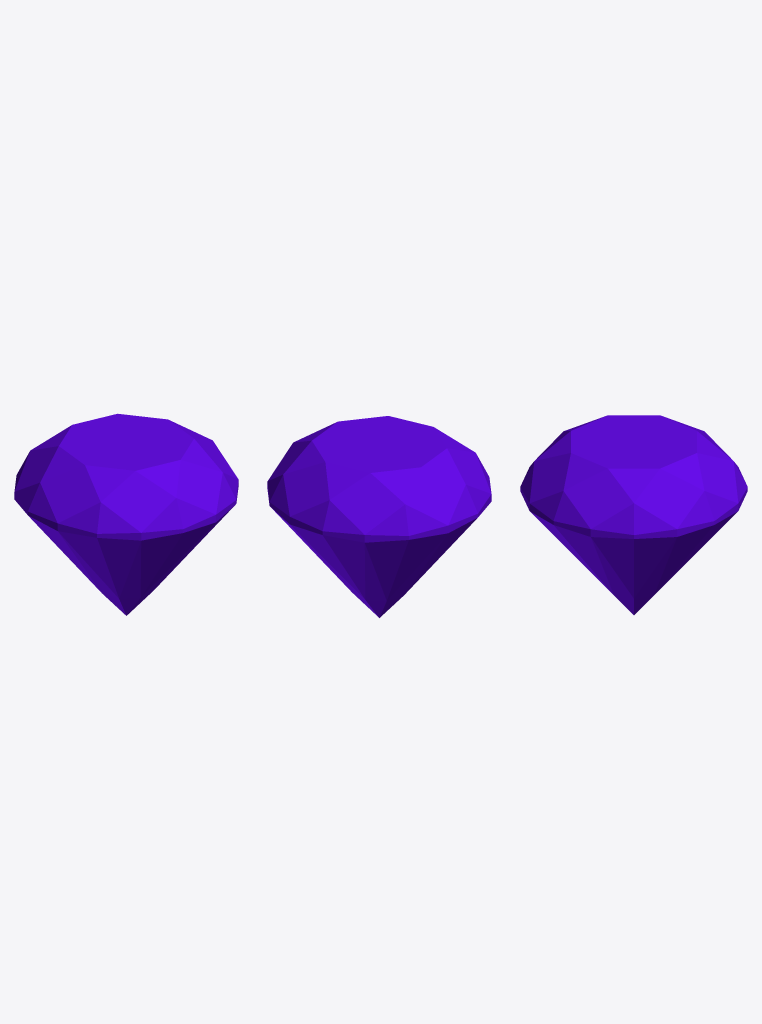
Rendered from BlueDiamondWithRigid1.gltf.
3 views of the same model, side by side, from view 1: azimuth 30°, elevation 25°; view 2: azimuth 150°, elevation 25°; view 3: azimuth 270°, elevation 25° (orthographic).
Parts seen in each view (by area): view 1: Diamond2; view 2: Diamond2; view 3: Diamond2.
Part boxes in pixels (bbox=[...]): Diamond2: bbox=[14, 413, 238, 615]; Diamond2: bbox=[267, 416, 491, 617]; Diamond2: bbox=[520, 415, 747, 614].
Size of the model in its own units: 0.3503 by 1.69 by 0.3503.
